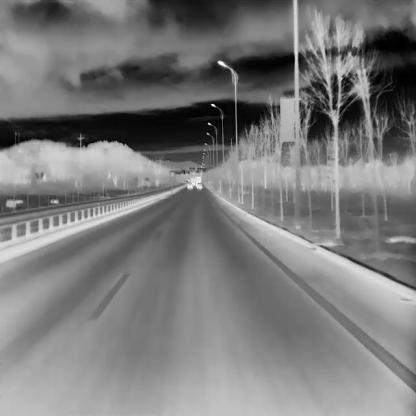car: (186, 183, 192, 188), (197, 182, 202, 188)
truck: (195, 176, 200, 186), (191, 176, 196, 184)
